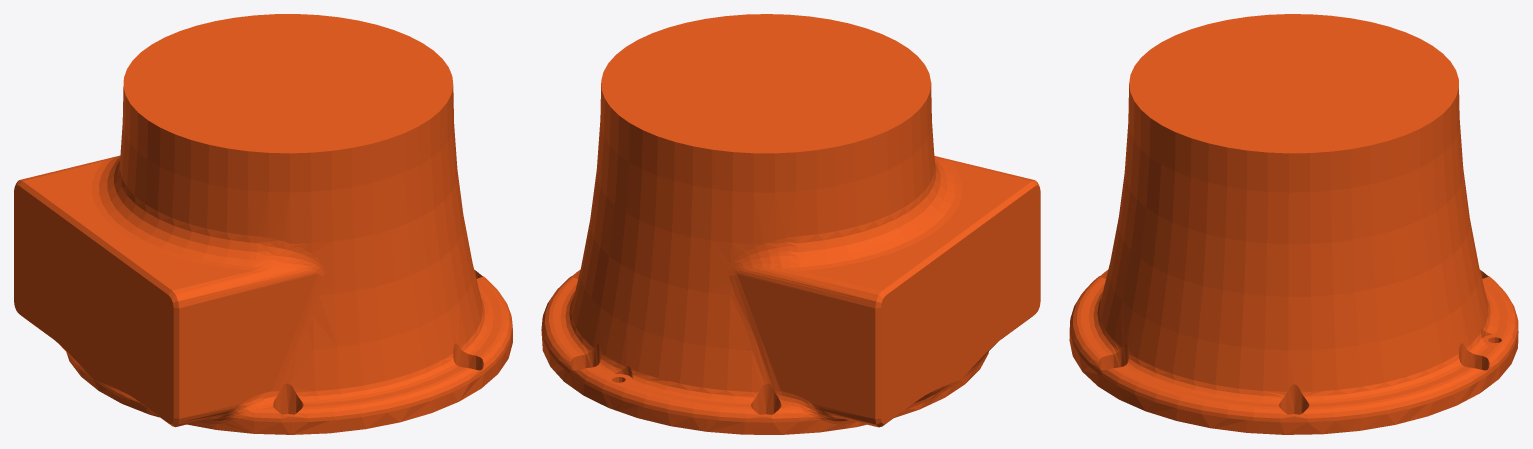
The picture shows the model from 3 angles, left to right: view 1: azimuth 30°, elevation 25°; view 2: azimuth 150°, elevation 25°; view 3: azimuth 270°, elevation 25°; orthographic projection.
Parts seen in each view (by area): view 1: base; view 2: base; view 3: base.
Part boxes in pixels (x1,y1,x2,y2): base: [14, 14, 512, 434]; base: [541, 14, 1040, 434]; base: [1069, 14, 1518, 434].
Size of the model in its own units: 0.1619 by 0.1619 by 0.102.
